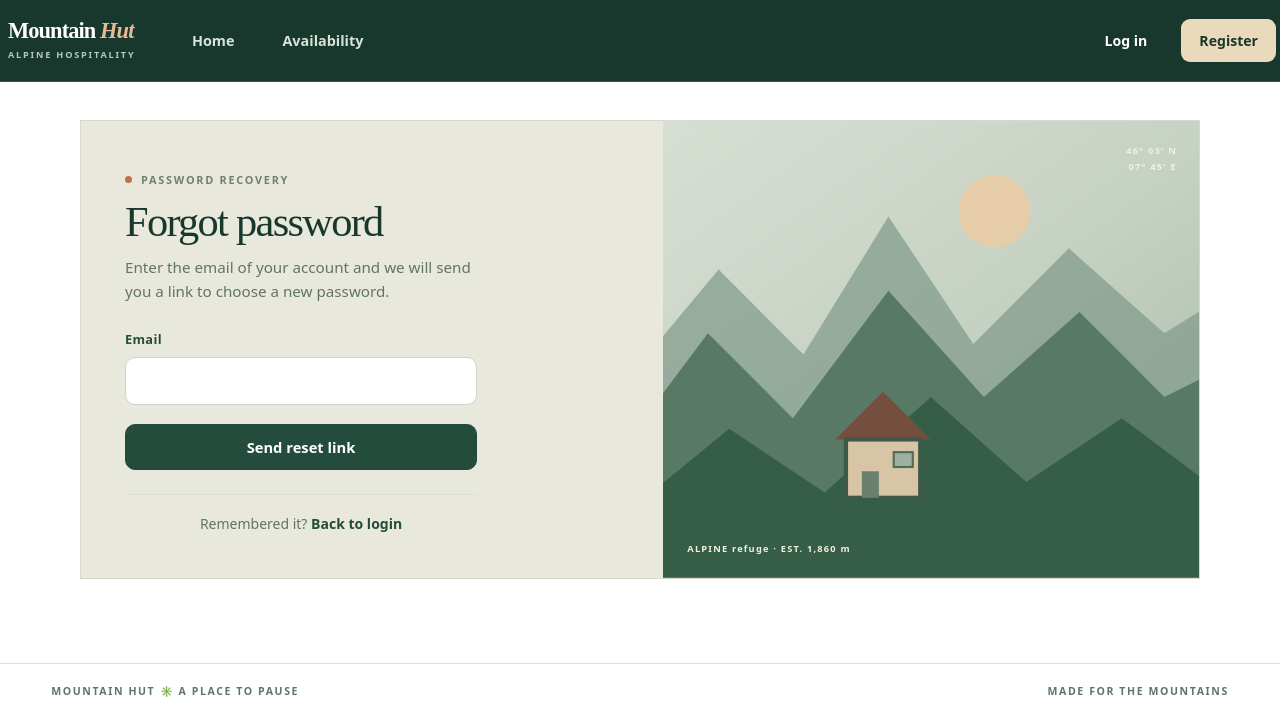
forgot password › shows a generic message after submitting
This screenshot has width=1280, height=720.
In the field labelled "Email": (301, 381) [125, 357, 477, 405], type "anna@x.it"
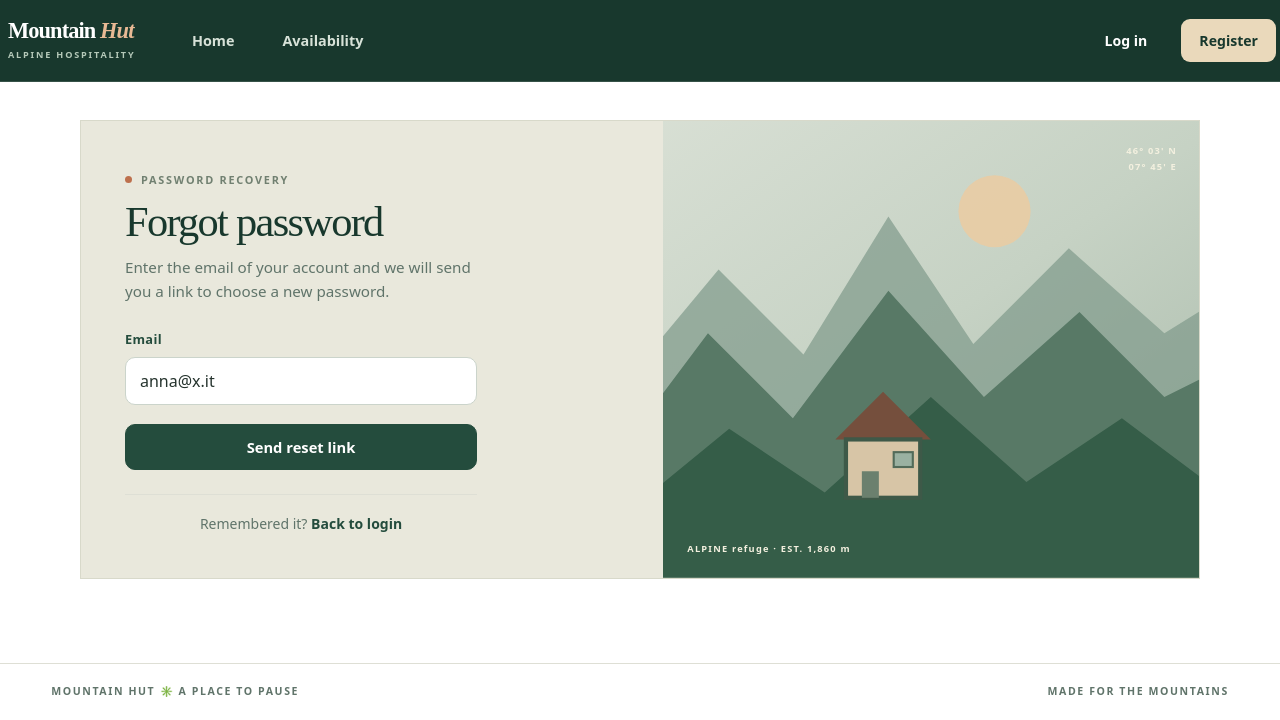
Click the button "Send reset link": (301, 447) [125, 424, 477, 470]
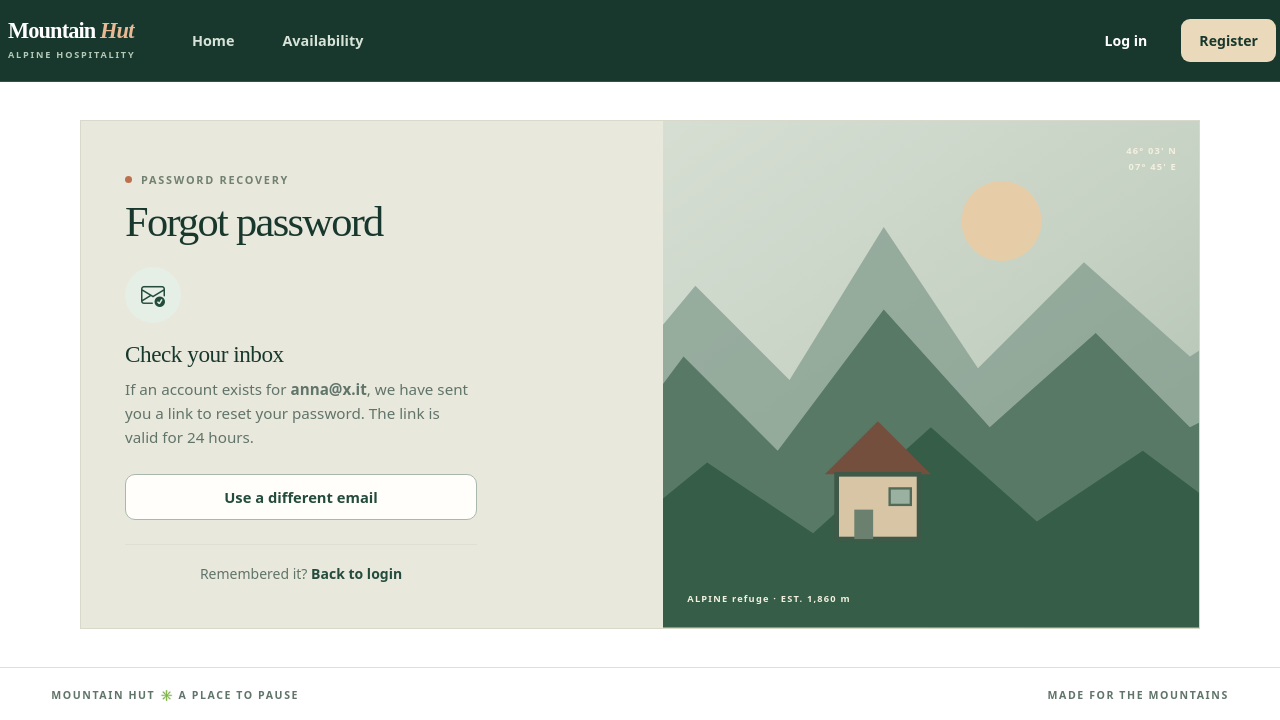
Expected: the message shows "If an account exists for anna@x.it", [125, 377, 477, 450]
